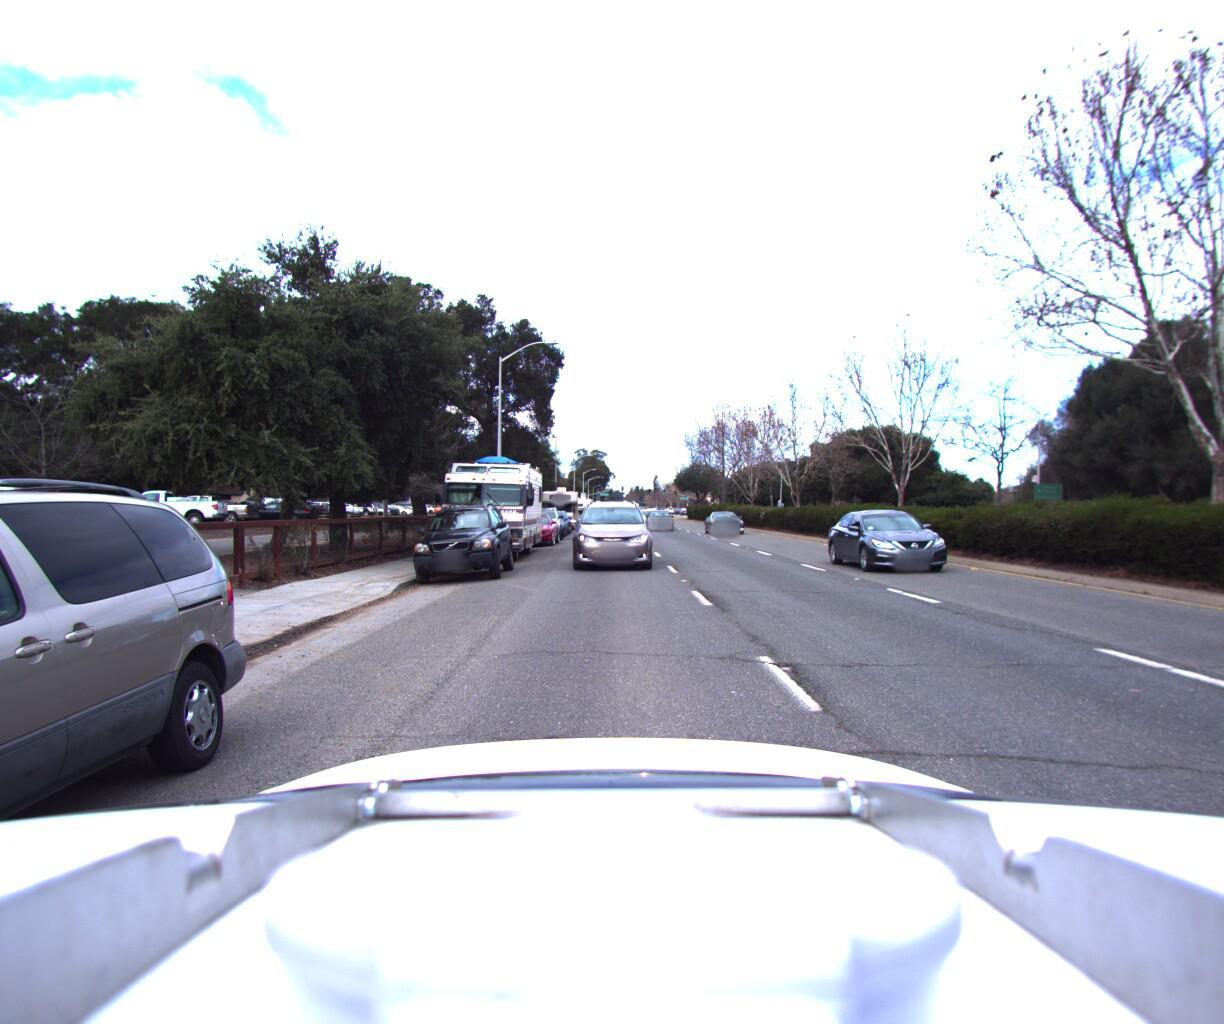car: (0, 368, 270, 1024), (837, 509, 985, 581), (405, 493, 513, 582), (571, 496, 649, 576), (507, 507, 556, 544), (521, 500, 560, 536), (703, 503, 749, 532), (645, 504, 678, 527)
other_vehicle: (428, 445, 541, 565), (536, 481, 575, 528), (555, 490, 585, 522)
